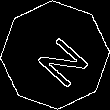N_NW: (23, 23, 87, 87)
